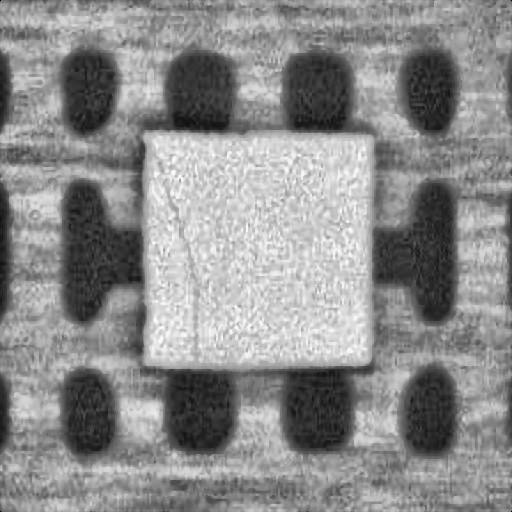DIE_CRACK: (147, 144, 197, 356)
